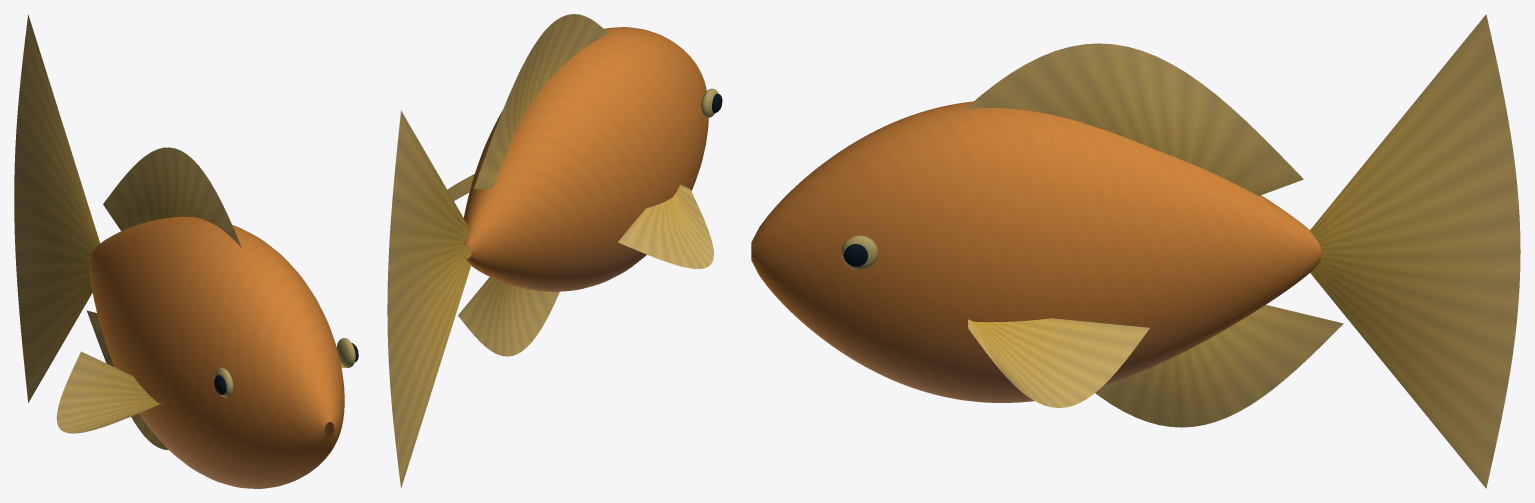
Rendered from goldfish.glb.
3 views of the same model, side by side, from view 1: azimuth 30°, elevation 25°; view 2: azimuth 150°, elevation 25°; view 3: azimuth 270°, elevation 25° (orthographic). The views are drawn at different scales.
Visible parts, largest first — view 1: Ocean Slice goldfish; view 2: Ocean Slice goldfish; view 3: Ocean Slice goldfish.
Part boxes in pixels (<box>): Ocean Slice goldfish: <box>14,15,358,488</box>; Ocean Slice goldfish: <box>387,14,722,488</box>; Ocean Slice goldfish: <box>751,14,1520,488</box>.
Size of the model in its own units: 0.7 by 0.92 by 1.35.
